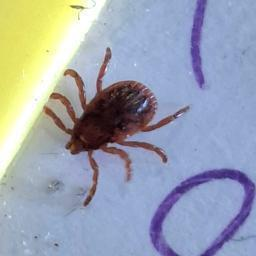Rhipicephalus sanguineus: (40, 47, 190, 208)
